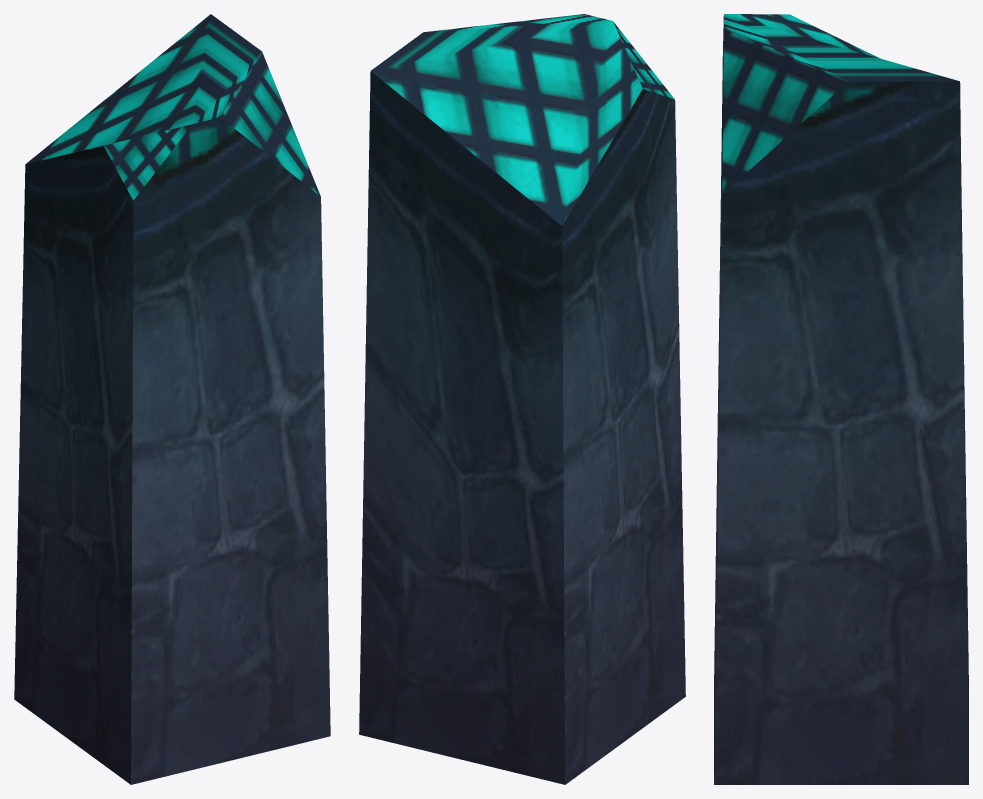
Rendered from 10109_boss03.FBX.
3 views of the same model, side by side, from view 1: azimuth 30°, elevation 25°; view 2: azimuth 150°, elevation 25°; view 3: azimuth 270°, elevation 25° (orthographic). The views are drawn at different scales.
Visible parts, largest first — view 1: 10109_boss03; view 2: 10109_boss03; view 3: 10109_boss03.
Boxes of the visible parts, x1=… form: 10109_boss03: x1=14, y1=14, x2=330, y2=784; 10109_boss03: x1=359, y1=14, x2=685, y2=784; 10109_boss03: x1=714, y1=14, x2=968, y2=784.
Bounding box in the file's own units: 164 × 502 × 166.
